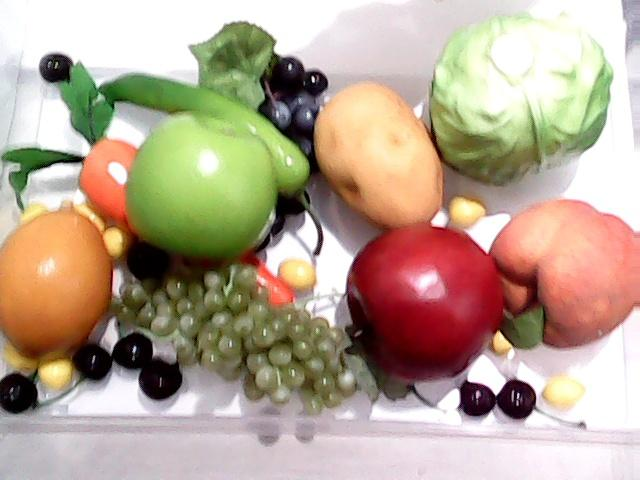apple: (342, 220, 506, 382), (118, 110, 282, 258)
cabbage: (425, 8, 617, 184)
carrot: (1, 59, 296, 305)
grape: (111, 269, 367, 411), (238, 50, 326, 250)
lemon: (1, 199, 114, 376)
peach: (491, 199, 640, 349)
pepper: (90, 33, 306, 201)
potato: (313, 80, 443, 228)
